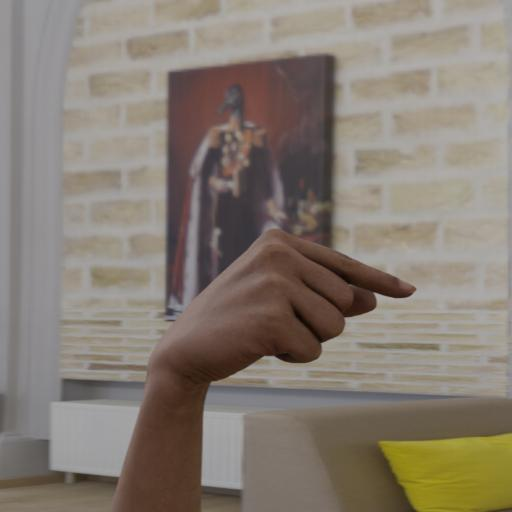G: (90, 212, 422, 486)
